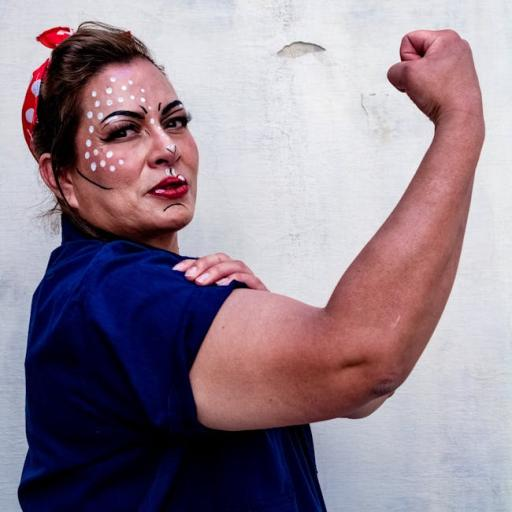lipstick: (149, 174, 188, 199)
